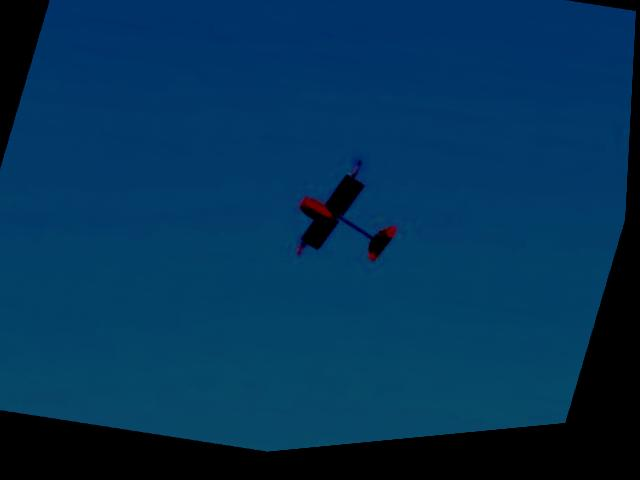uav: (276, 141, 424, 290)
